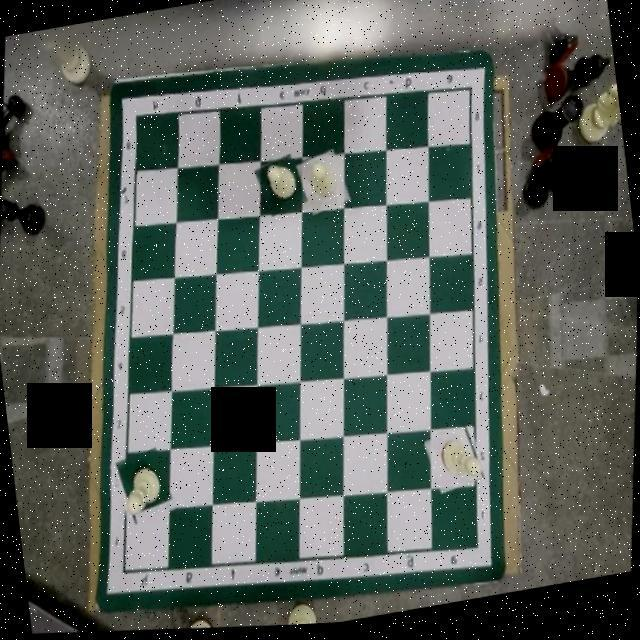chess-table-corners: (110, 543, 148, 599), (448, 72, 489, 116), (451, 532, 496, 565), (120, 101, 158, 135)
